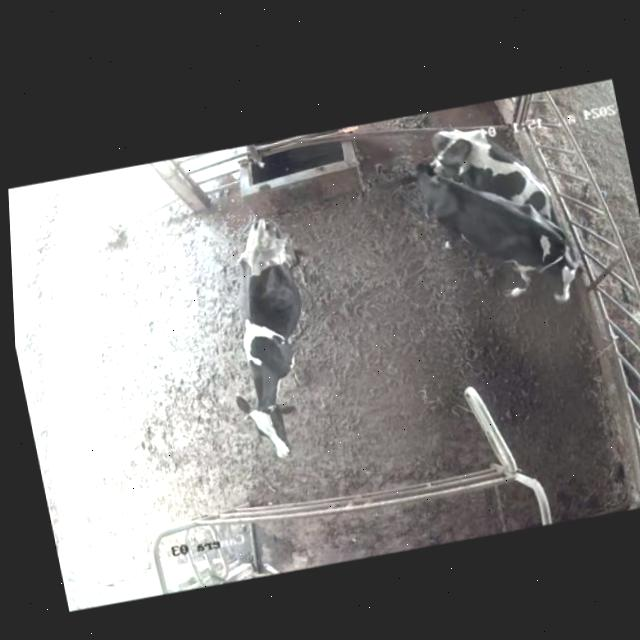stand: (186, 199, 352, 479), (391, 136, 592, 335), (424, 100, 571, 245)
